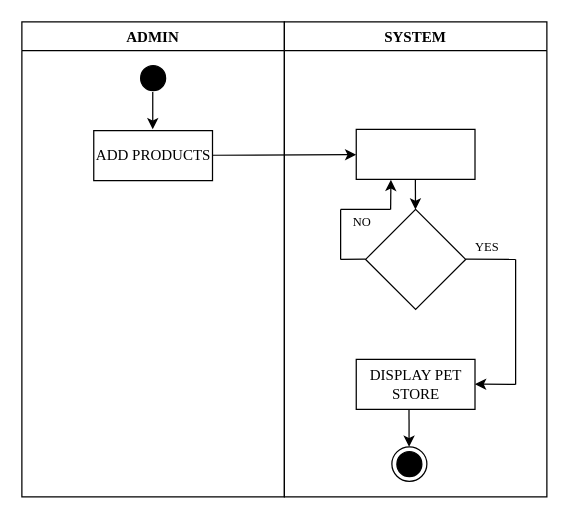
This 569x519 diagram has some shape labels left out. Here are the shapes that lost their labels. From the top down, the centre of each, then its label:
At pixel 415 153: "INPUT PRODUCT INFO".
At pixel 415 258: "VALID INPUTS?".
